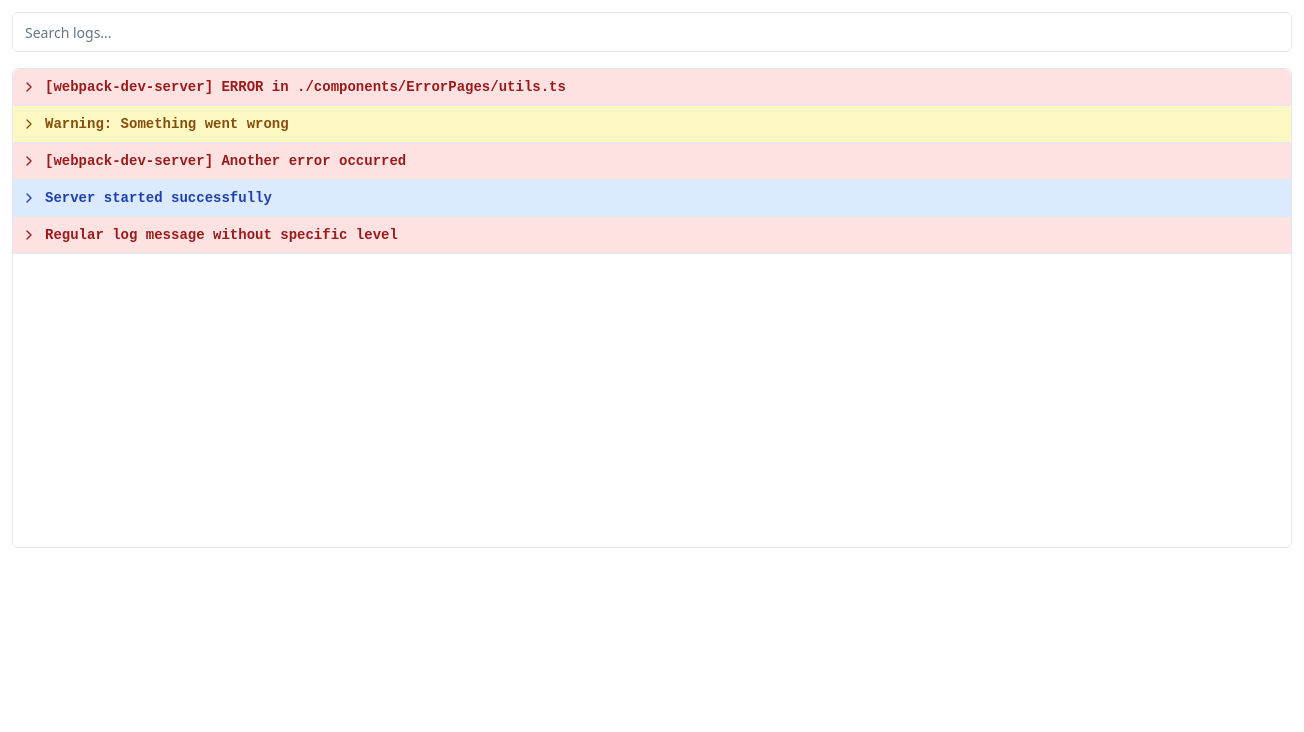
Test case: ConsoleOutput › toggles error details when clicked
Click the button "[webpack-dev-server] ERROR in ./components/ErrorPages/utils.ts" at (305, 87), box [13,69,1291,105]
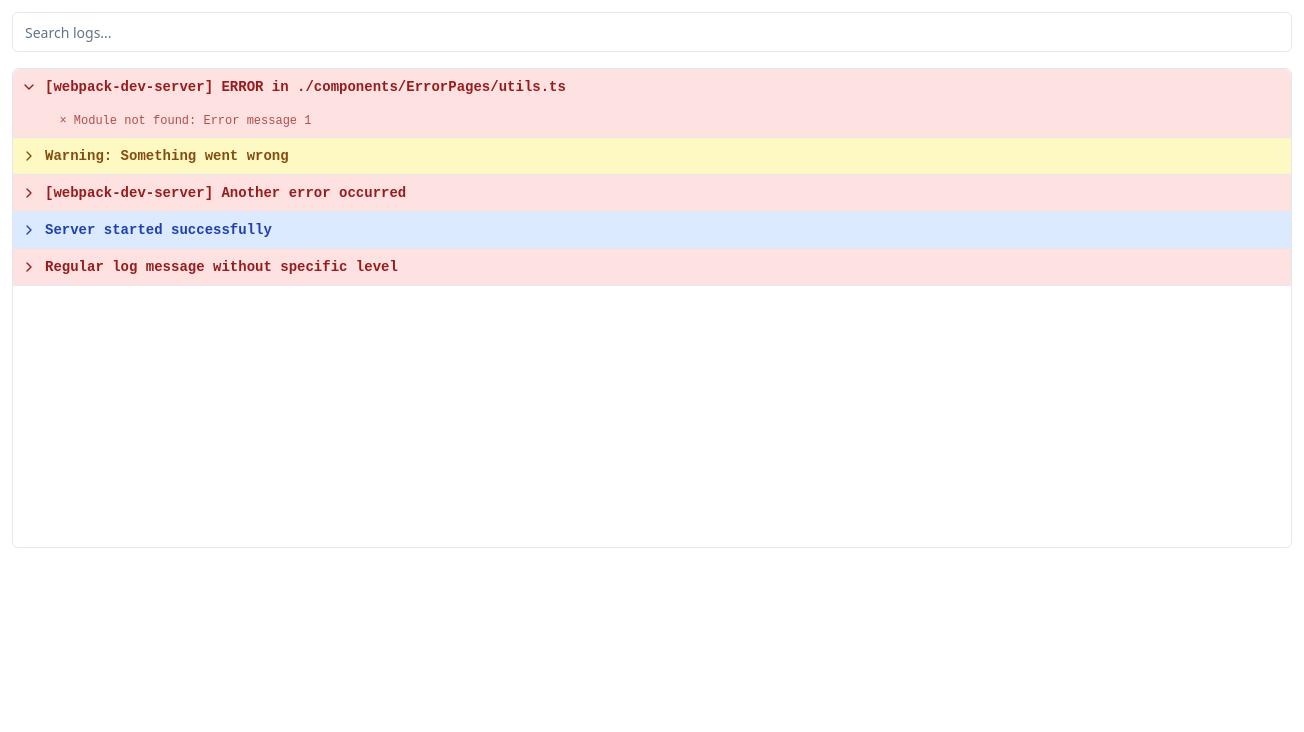
Result: the text "× Module not found: Error message 1" is shown at [45,114,312,128]
